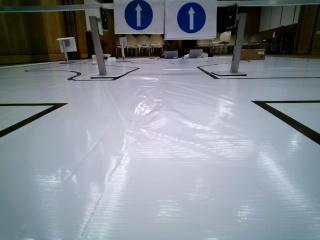straight: (166, 0, 217, 37), (116, 0, 166, 36)
